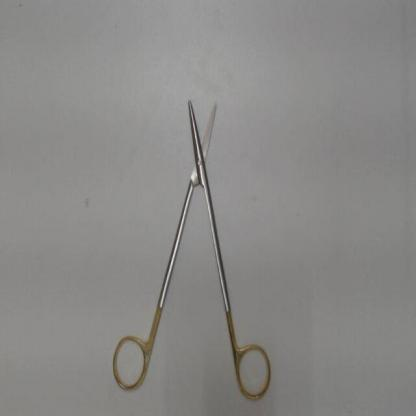7 Metzenbaum Scissors: (110, 90, 279, 408)
